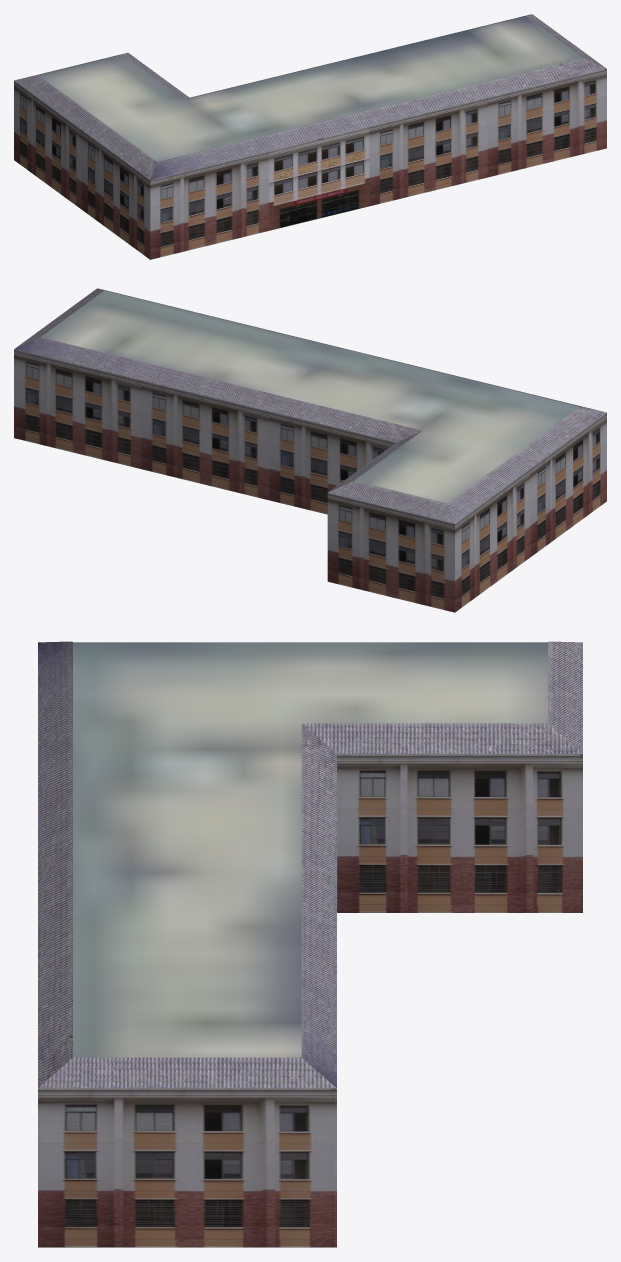
The model's file is nhyy.gltf.
3 views of the same model, one above another, from view 1: azimuth 30°, elevation 25°; view 2: azimuth 150°, elevation 25°; view 3: azimuth 270°, elevation 25° (orthographic). The views are drawn at different scales.
Parts seen in each view (by area): view 1: Model#16; view 2: Model#16; view 3: Model#16.
Part boxes in pixels (left/top/right/bottom): Model#16: left=14, top=14, right=606, bottom=259; Model#16: left=14, top=288, right=606, bottom=612; Model#16: left=38, top=641, right=582, bottom=1247.
Bounding box in the file's own units: 0.06 × 0.011 × 0.031.
3 materials, 3 textured.
